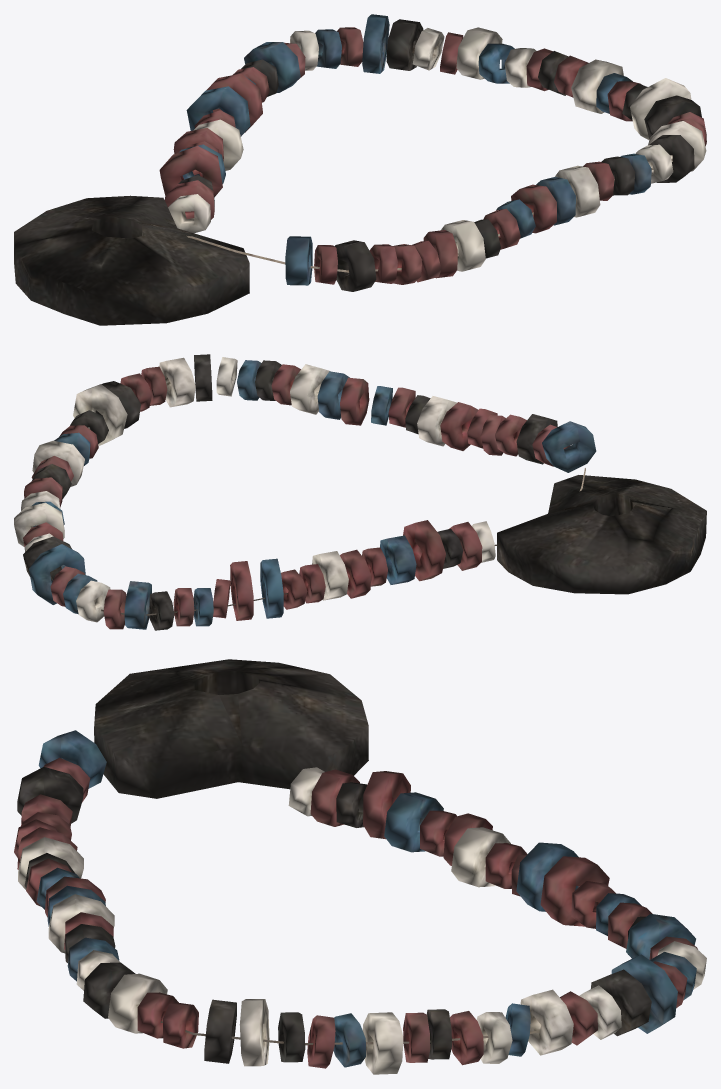
Rendered from outfit_bead_necklace.glb.
3 renders of one model, top to bottom at view 1: azimuth 30°, elevation 25°; view 2: azimuth 150°, elevation 25°; view 3: azimuth 270°, elevation 25°, orthographic. The views are drawn at different scales.
Visible parts, largest first — view 1: outfit_bead_necklace; view 2: outfit_bead_necklace; view 3: outfit_bead_necklace.
Boxes of the visible parts, x1,y1,x2,y2 form: outfit_bead_necklace: (14,14,706,325); outfit_bead_necklace: (14,354,706,630); outfit_bead_necklace: (14,659,706,1074).
Size of the model in its own units: 2.23 by 0.3 by 1.71.
Materials: 5 (5 with a texture image).
